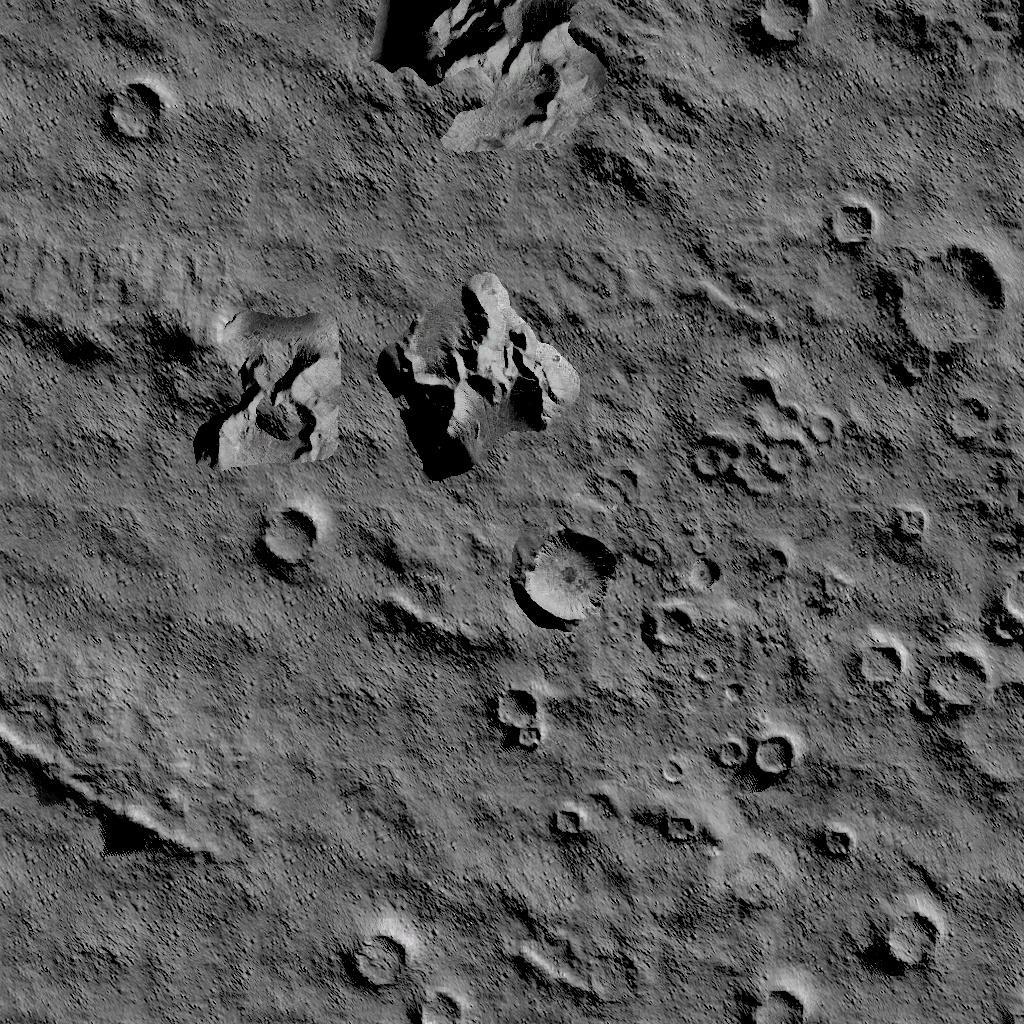Boulders: (0, 248, 345, 472), (375, 0, 686, 203), (380, 270, 584, 486), (0, 718, 214, 868), (356, 522, 492, 652)
Crater: (851, 566, 1024, 792), (889, 234, 1024, 446), (681, 360, 833, 504), (508, 510, 626, 638), (341, 916, 470, 1024), (248, 491, 336, 594), (644, 550, 724, 654), (850, 886, 938, 980), (97, 72, 179, 158), (706, 722, 800, 792), (727, 0, 822, 67), (480, 678, 548, 756), (812, 184, 876, 260), (724, 974, 818, 1024), (652, 798, 704, 850), (885, 499, 934, 551), (813, 814, 854, 866), (544, 800, 588, 840), (997, 988, 1024, 1024)
Plan surface: (4, 880, 324, 1024), (6, 488, 234, 684), (253, 670, 457, 856), (194, 6, 348, 228), (727, 86, 1024, 164)
